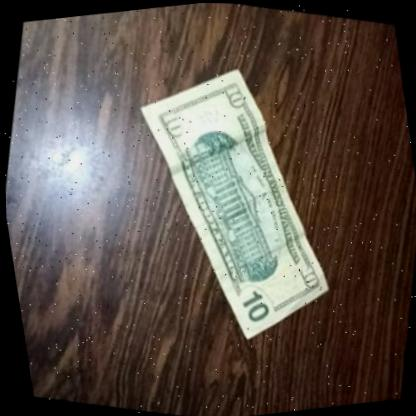ten-back: (72, 27, 389, 377)
